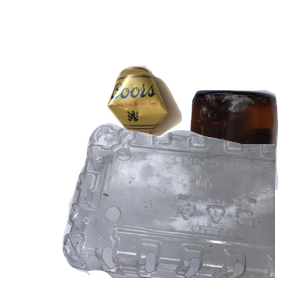glass: (87, 87, 300, 267)
metal: (105, 63, 300, 192)
plastic: (60, 120, 300, 300)
trash: (99, 155, 268, 300)
